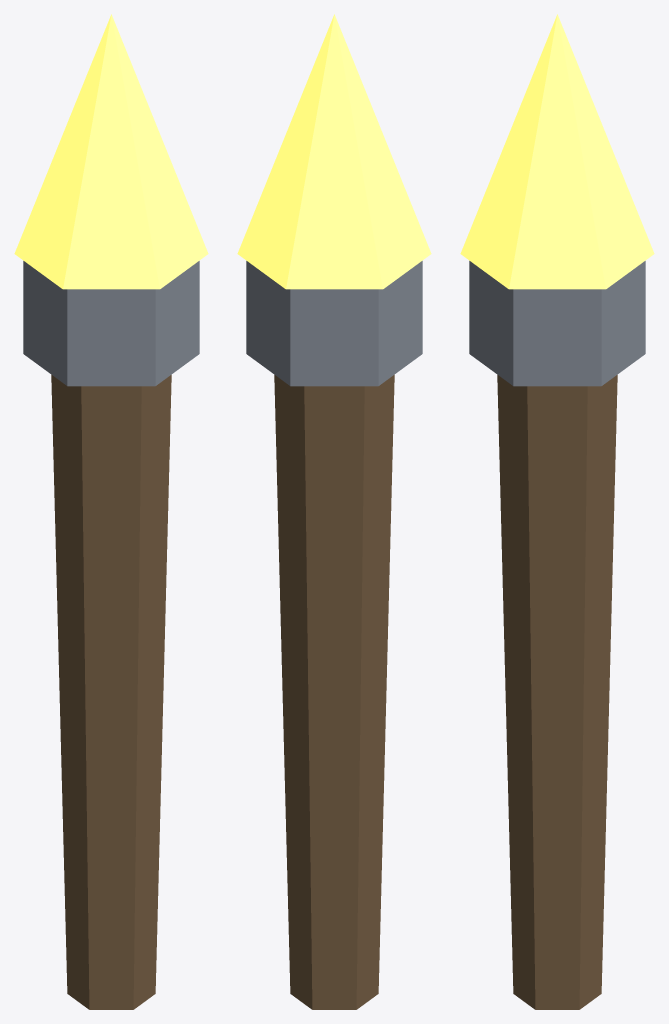
File: torch.glb
3 renders of one model, left to right at view 1: azimuth 30°, elevation 25°; view 2: azimuth 150°, elevation 25°; view 3: azimuth 270°, elevation 25°, orthographic.
Parts seen in each view (by area): view 1: TorchPost, TorchFlame, TorchBasket; view 2: TorchPost, TorchFlame, TorchBasket; view 3: TorchPost, TorchFlame, TorchBasket.
Boxes of the visible parts, <box> form: TorchPost: <box>51,375,171,1009</box>; TorchFlame: <box>14,14,208,289</box>; TorchBasket: <box>23,261,199,386</box>; TorchPost: <box>274,375,394,1009</box>; TorchFlame: <box>237,14,431,289</box>; TorchBasket: <box>246,261,422,386</box>; TorchPost: <box>497,375,617,1009</box>; TorchFlame: <box>460,14,654,289</box>; TorchBasket: <box>469,261,645,386</box>.
Size of the model in its own units: 0.3811 by 2.45 by 0.44.
